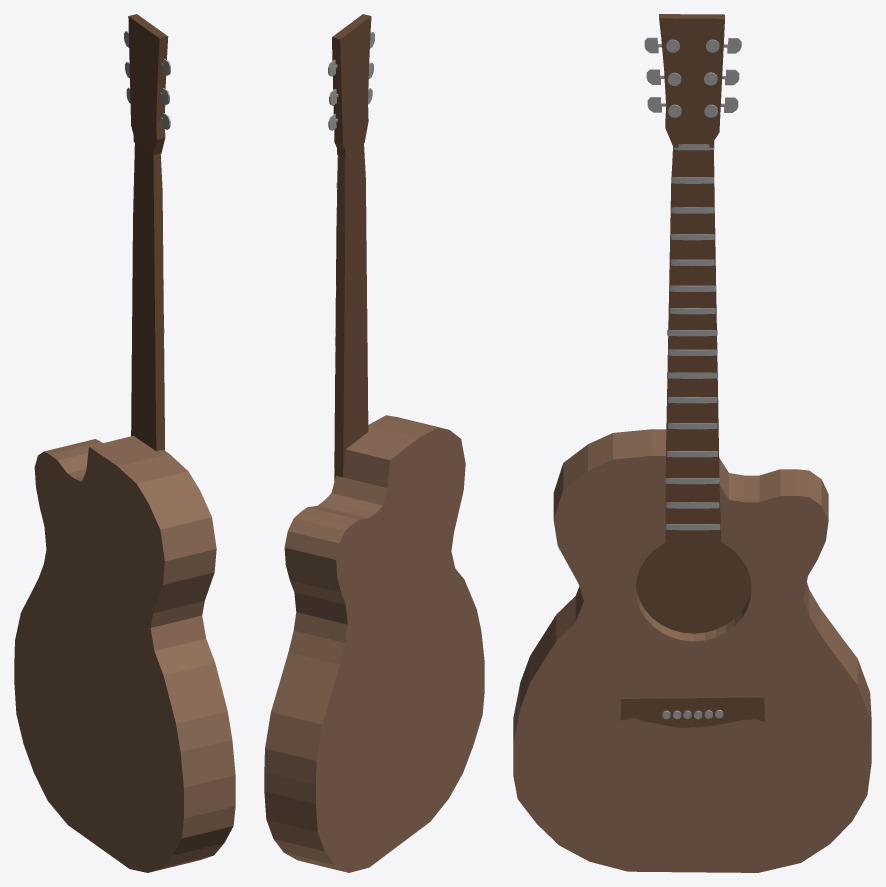
The model's file is guitarra.gltf.
3 renders of one model, left to right at view 1: azimuth 30°, elevation 25°; view 2: azimuth 150°, elevation 25°; view 3: azimuth 270°, elevation 25°, orthographic. The views are drawn at different scales.
Visible parts, largest first — view 1: Plane, Plane.002, Plane.001; view 2: Plane, Plane.002, Plane.001; view 3: Plane, Plane.002, Plane.001, Plane.003.
Boxes of the visible parts, x1,y1,x2,y2 form: Plane: [14, 435, 235, 872]; Plane.002: [131, 143, 164, 451]; Plane.001: [128, 14, 168, 155]; Plane: [264, 415, 484, 872]; Plane.002: [334, 144, 368, 480]; Plane.001: [332, 14, 371, 156]; Plane: [513, 429, 871, 872]; Plane.002: [665, 147, 721, 543]; Plane.001: [659, 14, 724, 147]; Plane.003: [620, 696, 764, 727].
Bounding box in the file's own units: 0.0725 × 1.01 × 0.3813.
